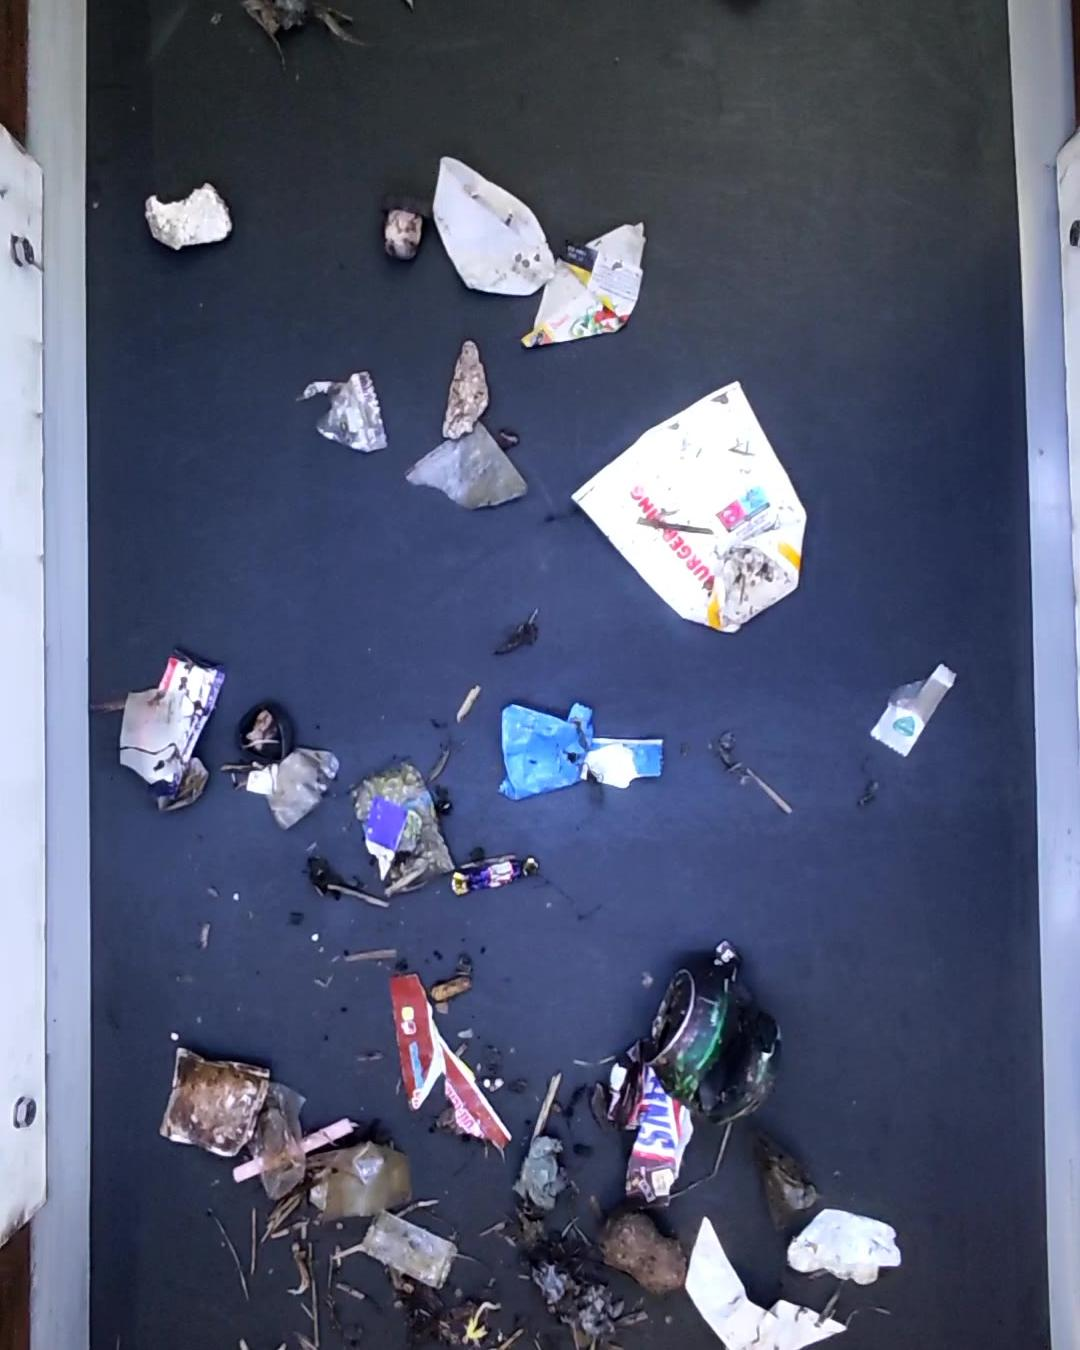Drankblikjes: (649, 958, 781, 1124)
Plastic folies of stukken daarvan 2.5- 50 cm: (679, 1217, 846, 1348), (403, 424, 530, 512), (788, 1209, 897, 1286), (296, 370, 390, 457), (311, 1142, 412, 1221), (363, 1214, 457, 1288), (267, 744, 339, 831), (249, 1082, 302, 1198), (508, 1137, 565, 1209)
Snoep snack en chips verpakkingen: (389, 973, 515, 1147), (498, 698, 667, 803), (116, 655, 226, 803), (522, 223, 648, 349), (608, 1036, 694, 1202), (353, 763, 454, 898), (872, 662, 958, 759), (449, 852, 536, 901)
